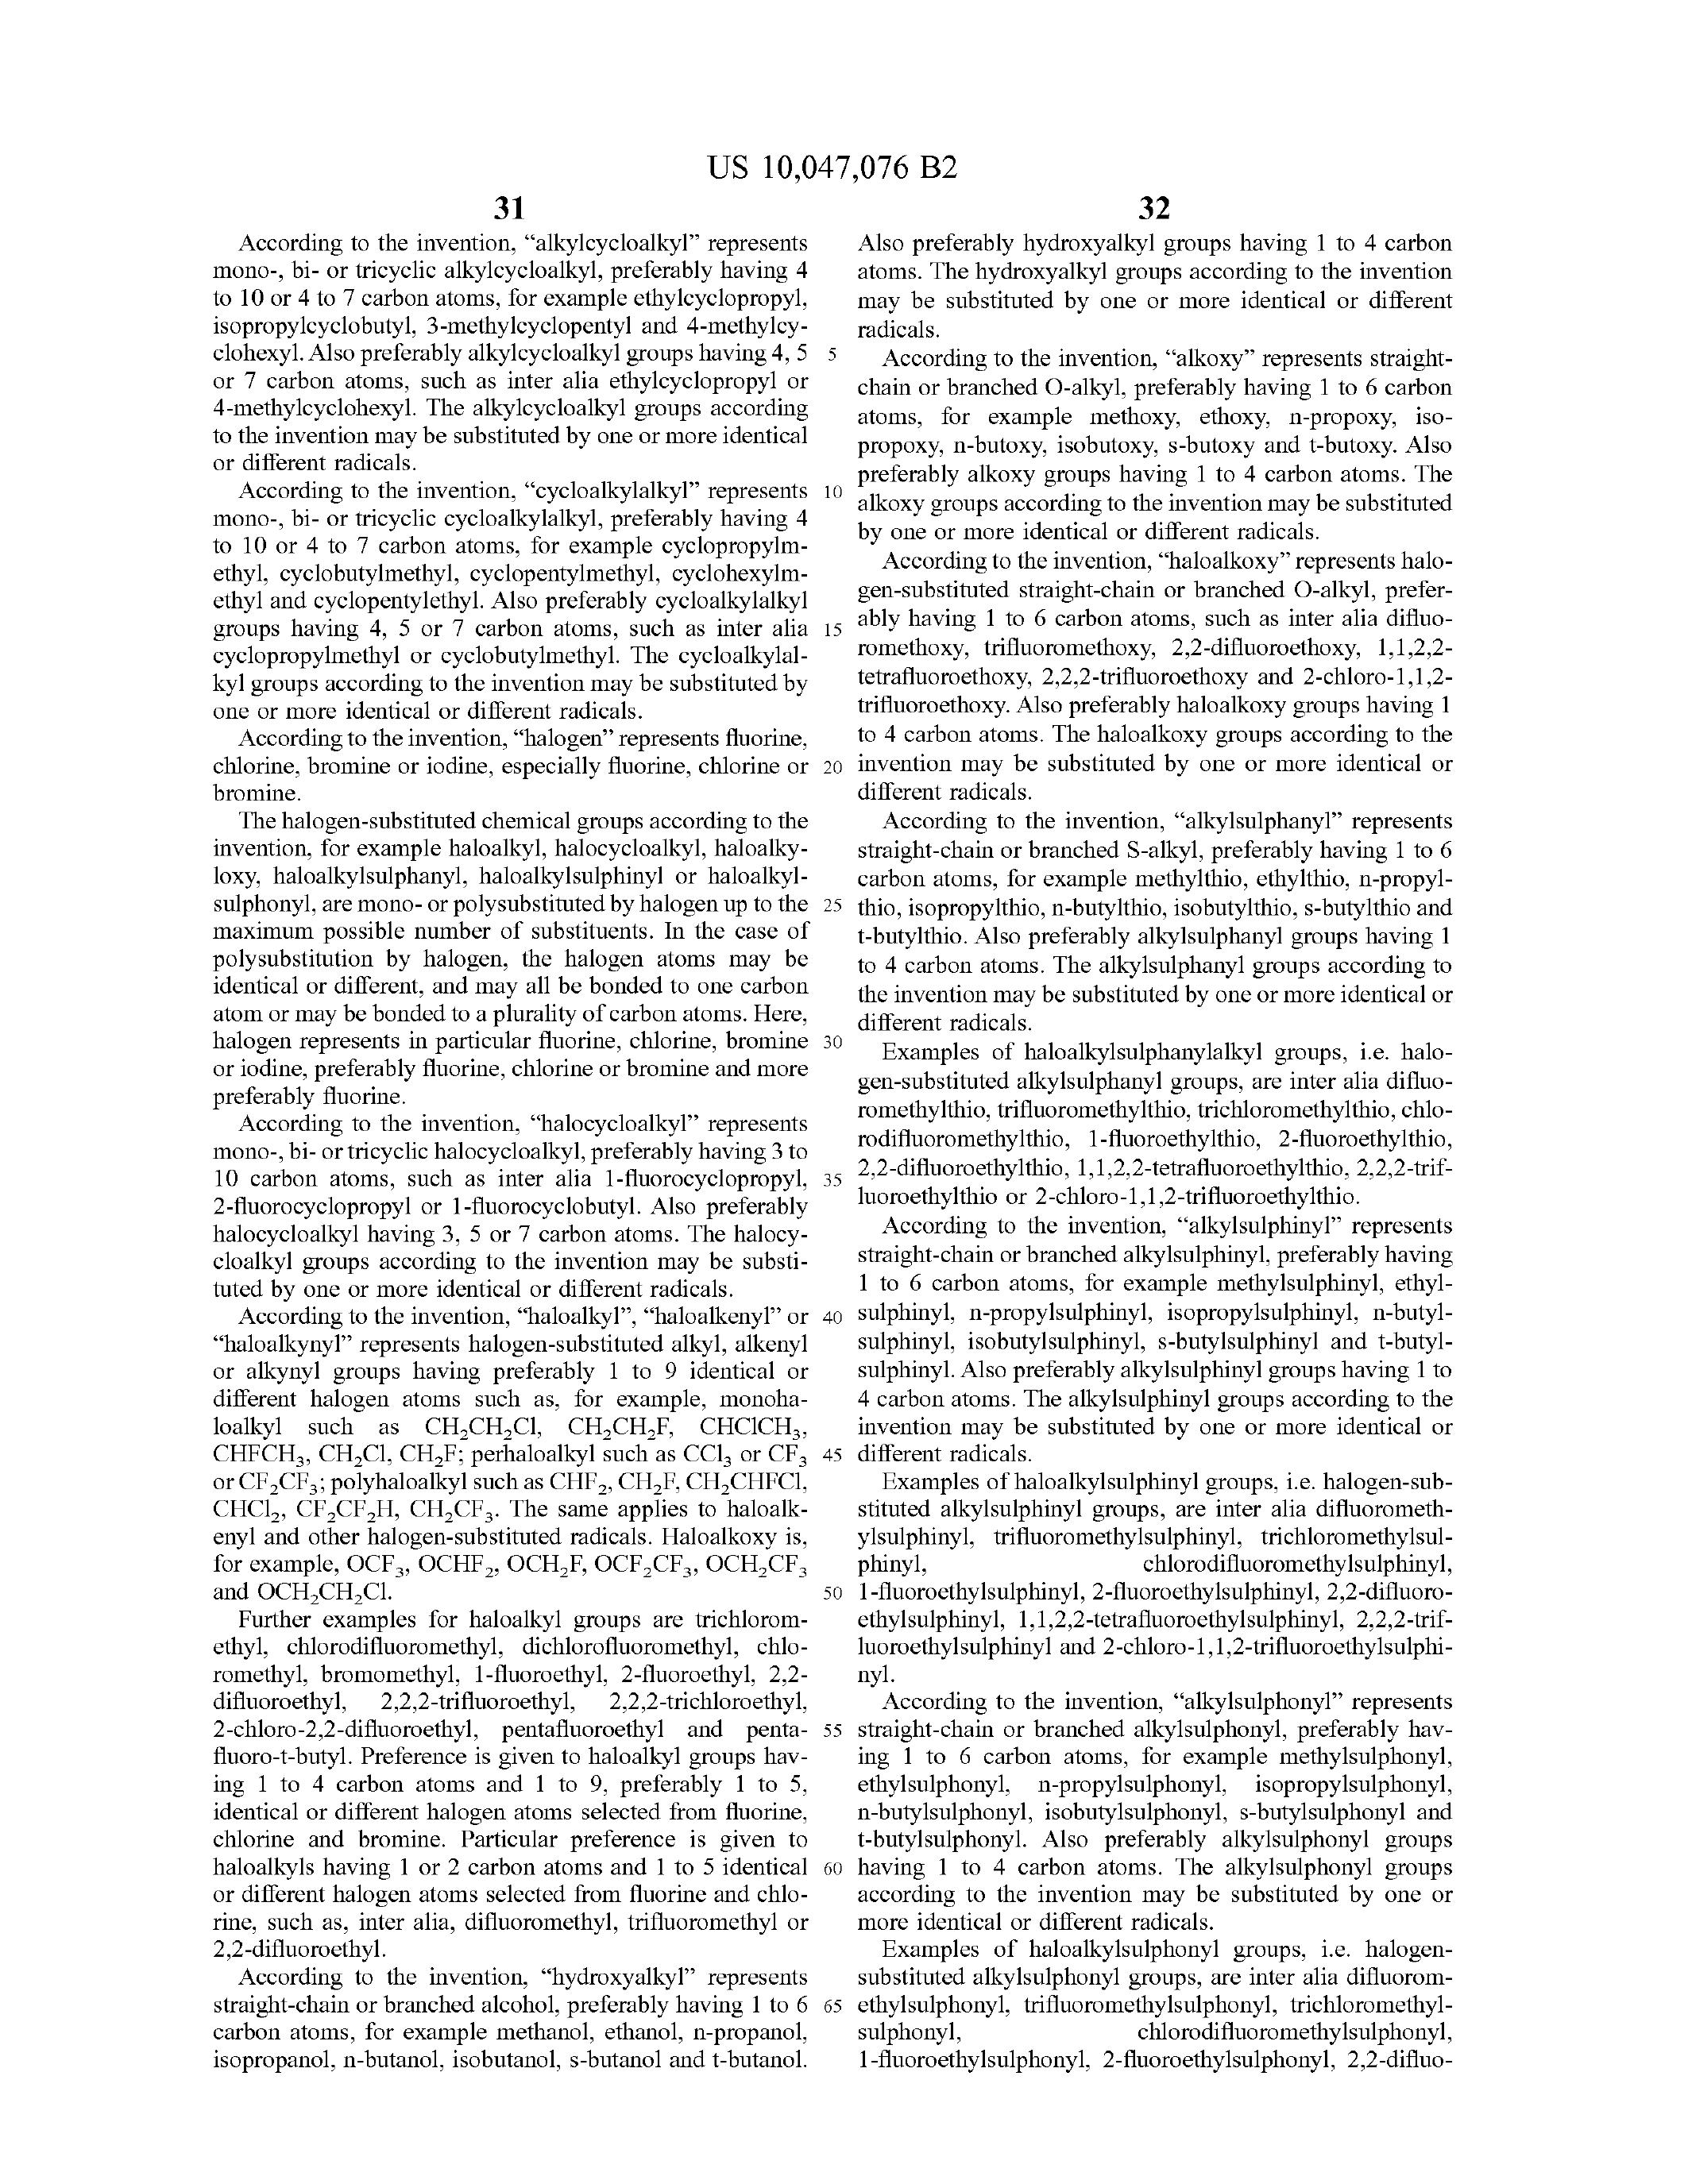substitutes: (195, 807, 816, 1115)
